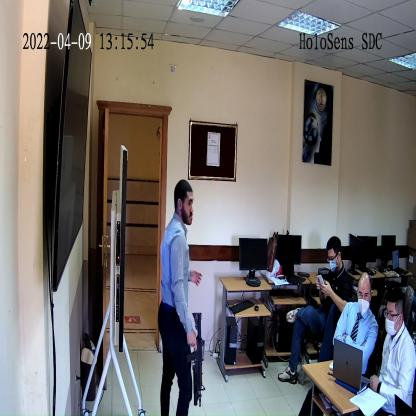handgun: (192, 308, 207, 406)
